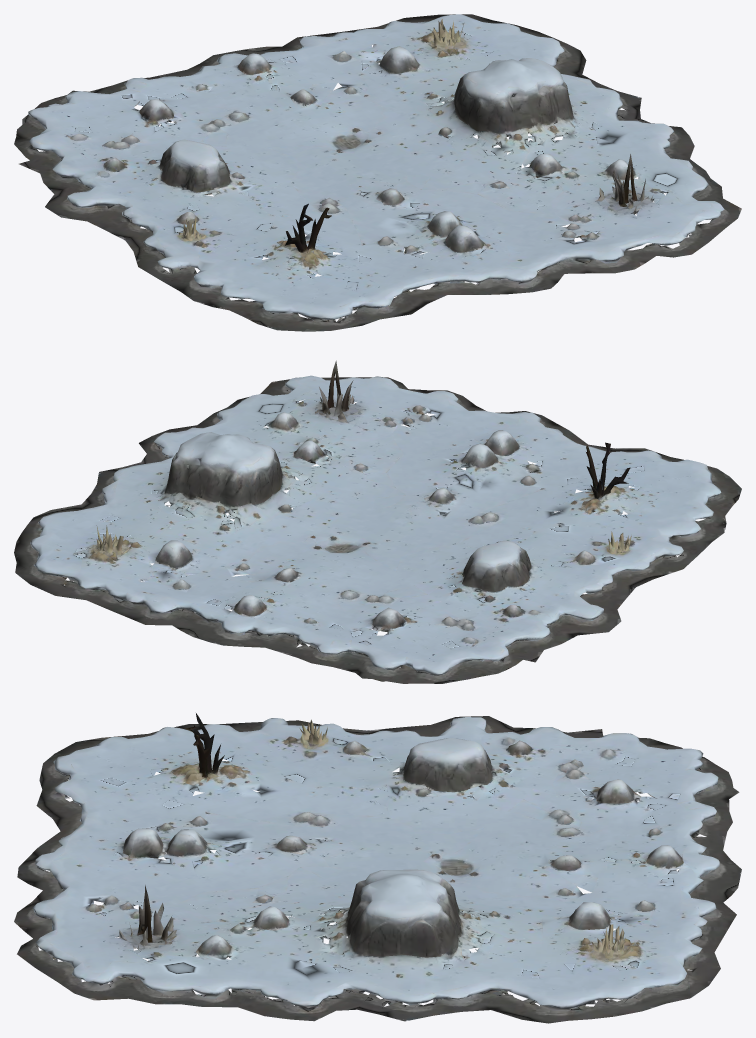
File: snow-ground-11.glb
3 renders of one model, top to bottom at view 1: azimuth 30°, elevation 25°; view 2: azimuth 150°, elevation 25°; view 3: azimuth 270°, elevation 25°, orthographic. The views are drawn at different scales.
Visible parts, largest first — view 1: geometry_0; view 2: geometry_0; view 3: geometry_0.
Part boxes in pixels (box(x1,y1,x2,y2)): geometry_0: box(14, 14, 741, 331); geometry_0: box(14, 360, 741, 683); geometry_0: box(14, 713, 741, 1023).
Size of the model in its own units: 0.9695 by 0.1144 by 0.9706.
1 material, 1 textured.
